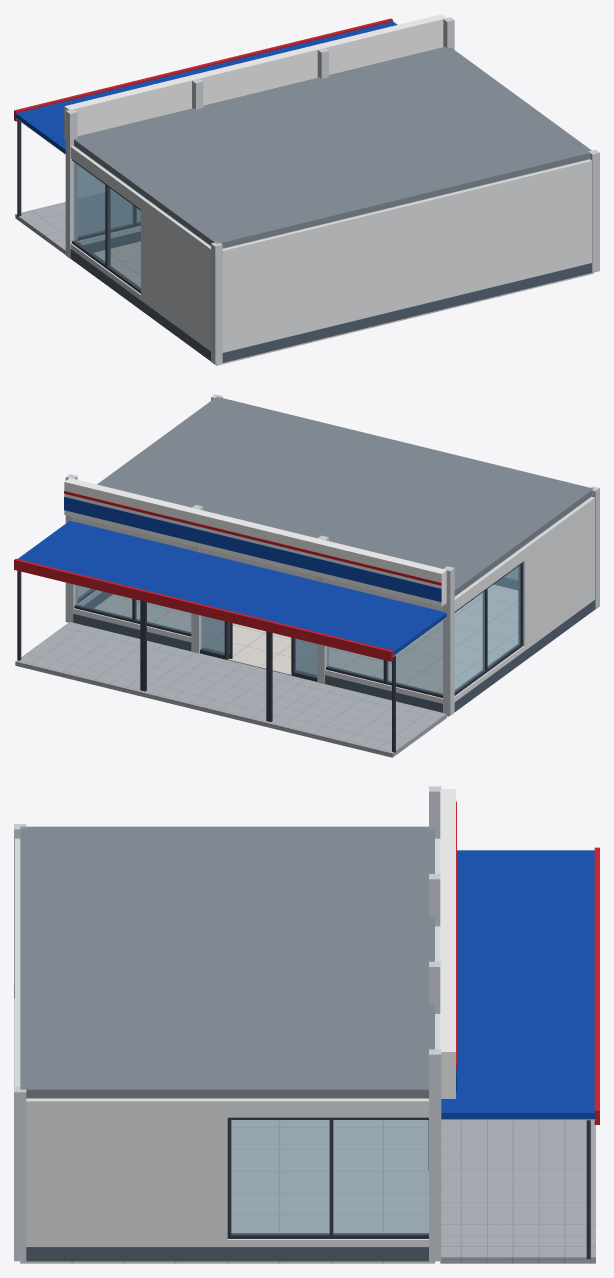
File: Store_Assembled_12x8.obj
3 renders of one model, top to bottom at view 1: azimuth 30°, elevation 25°; view 2: azimuth 150°, elevation 25°; view 3: azimuth 270°, elevation 25°, orthographic. The views are drawn at different scales.
Visible parts, largest first — view 1: Roof, Wall, Fascia, Pillar, Glass, Canopy, Deck, Floor; view 2: Roof, Canopy, Deck, Wall, Fascia, Glass, Floor, Pillar, Door_R_1, Door_L_1; view 3: Roof, Wall, Canopy, Floor, Glass, Deck, Pillar, Fascia.
Part boxes in pixels (<box>): Roof: <box>74,47,591,248</box>; Wall: <box>70,146,592,362</box>; Fascia: <box>64,14,446,139</box>; Pillar: <box>65,17,599,364</box>; Glass: <box>74,162,140,289</box>; Canopy: <box>14,18,397,216</box>; Deck: <box>15,191,140,254</box>; Floor: <box>94,241,593,365</box>; Roof: <box>97,396,593,596</box>; Canopy: <box>14,521,446,752</box>; Deck: <box>15,622,446,757</box>; Wall: <box>73,497,595,712</box>; Fascia: <box>64,478,446,606</box>; Glass: <box>75,565,520,694</box>; Floor: <box>94,585,517,716</box>; Pillar: <box>65,394,599,715</box>; Door_R_1: <box>203,616,232,658</box>; Door_L_1: <box>291,638,316,675</box>; Roof: <box>20,826,434,1098</box>; Wall: <box>14,838,440,1261</box>; Canopy: <box>441,847,599,1258</box>; Floor: <box>20,1120,434,1263</box>; Glass: <box>231,1120,428,1234</box>; Deck: <box>440,1120,595,1263</box>; Pillar: <box>14,786,441,1261</box>; Fascia: <box>440,789,456,1098</box>.
Bounding box in the file's own units: 12.24 × 4.5 × 11.3.
13 materials, 2 textured.
